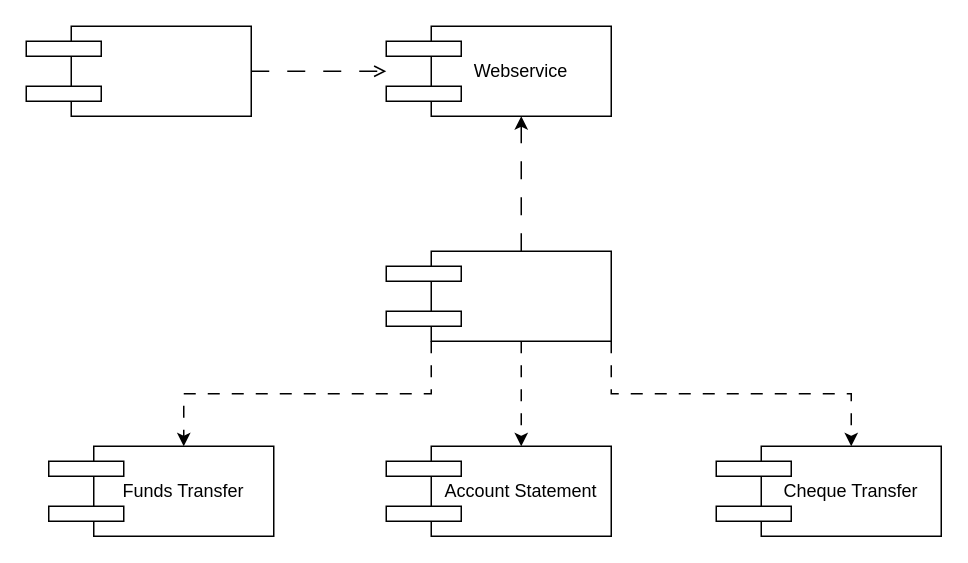
This 968x563 diagram has some shape labels left out. Here are the shapes that lost their labels. From the top down, the centre of each, then its label:
point 160,70: Customer
point 520,295: Account Details
